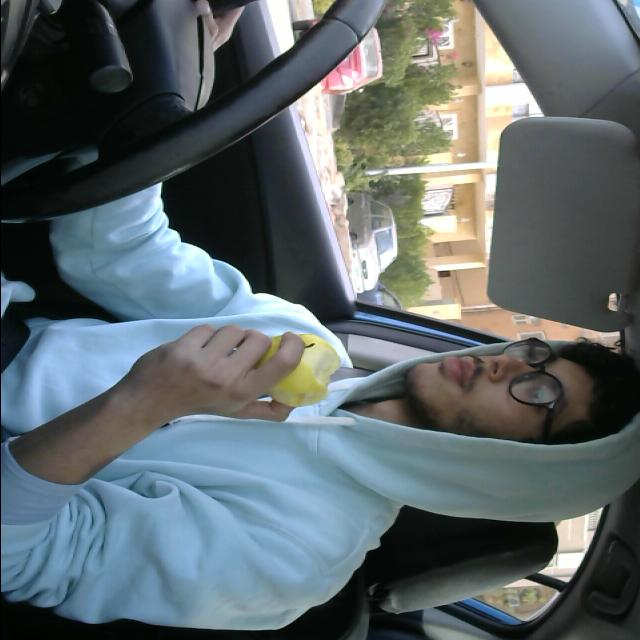eating: (253, 333, 345, 414)
